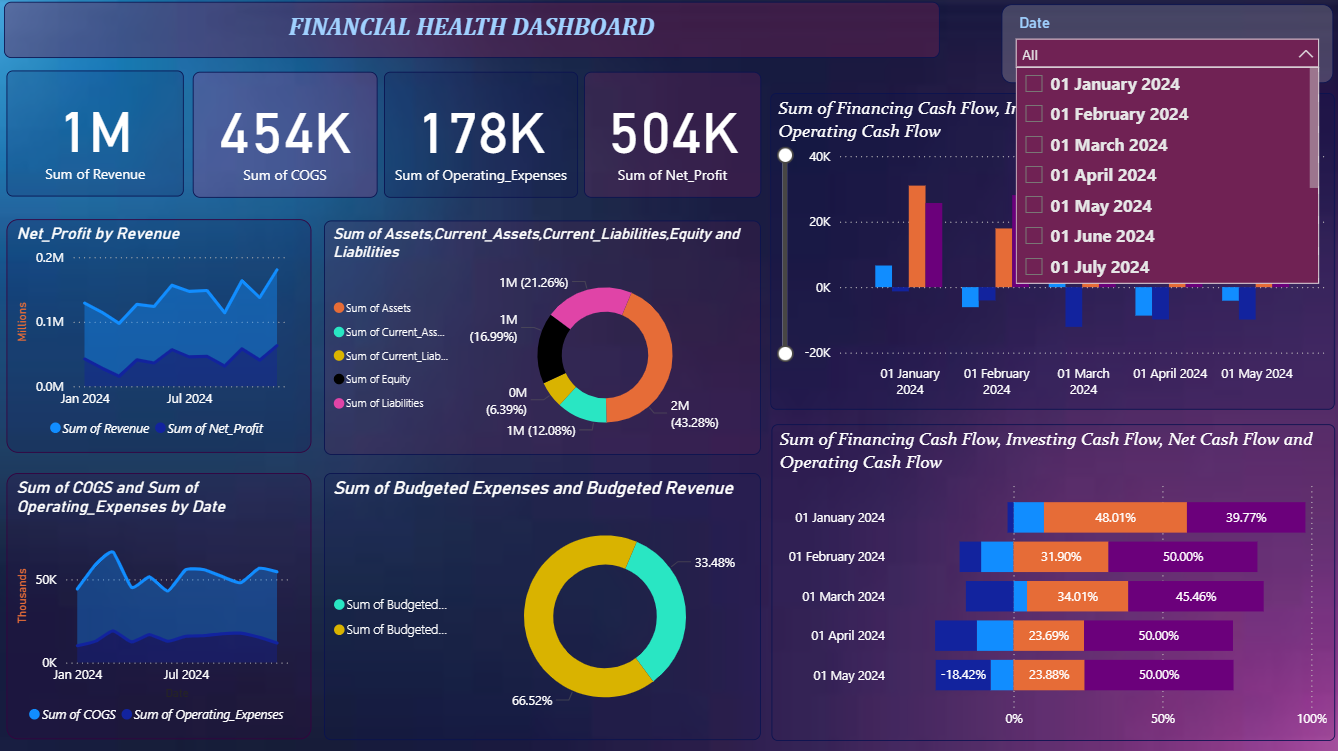

This screenshot's page, from the dashboard's own definition file:
{"tool":"powerbi","page":{"name":"Page 1","canvas":[1280,720],"ordinal":0},"visuals":[{"type":"textbox","box":[5,3.8,891.2,53.8],"z":0},{"type":"stackedAreaChart","title":"Net_Profit by Revenue","fields":{"Y":["Sum(Income_Statement.Revenue)","Sum(Income_Statement.Net_Profit)"],"Category":["Income_Statement.Date"]},"box":[7.5,211.2,290,222.5],"z":1000},{"type":"card","fields":{"Values":["Sum(Income_Statement.Revenue)"]},"box":[7.1,69,169,120.2],"z":2000},{"type":"stackedAreaChart","fields":{"Category":["Income_Statement.Date"],"Y":["Sum(Income_Statement.COGS)","Sum(Income_Statement.Operating_Expenses)"]},"box":[7.5,452.5,290,253.8],"z":3000},{"type":"card","fields":{"Values":["Sum(Income_Statement.COGS)"]},"box":[184.5,70.2,176.2,120.2],"z":4000},{"type":"card","fields":{"Values":["Sum(Income_Statement.Operating_Expenses)"]},"box":[366.7,70.2,184.5,120.2],"z":5000},{"type":"slicer","fields":{"Values":["Budget.Date Hierarchy.Date"]},"box":[955,6.2,316.2,75],"z":6000},{"type":"card","fields":{"Values":["Sum(Income_Statement.Net_Profit)"]},"box":[557.1,70.2,169,120.2],"z":7000},{"type":"donutChart","title":"Sum of Assets,Current_Assets,Current_Liabilities,Equity and Liabilities","fields":{"Y":["Sum(Balance_Sheet.Assets)","Sum(Balance_Sheet.Current_Assets)","Sum(Balance_Sheet.Current_Liabilities)","Sum(Balance_Sheet.Equity)","Sum(Balance_Sheet.Liabilities)"]},"box":[310,211.4,415.7,222.9],"z":8000},{"type":"donutChart","title":"Sum of Budgeted Expenses and Budgeted Revenue ","fields":{"Y":["Sum(Budget.Budgeted_Expenses)","Sum(Budget.Budgeted_Revenue)"]},"box":[310,452.9,415.7,254.3],"z":9000},{"type":"clusteredColumnChart","title":"Sum of Financing Cash Flow, Investing Cash Flow, Net Cash Flow and Operating Cash Flow","fields":{"Category":["Cash_Flow.Date"],"Y":["Sum(Cash_Flow.Financing_Cash_Flow)","Sum(Cash_Flow.Investing_Cash_Flow)","Sum(Cash_Flow.Net_Cash_Flow)","Sum(Cash_Flow.Operating_Cash_Flow)"]},"box":[735,90,537.5,301.2],"z":10000},{"type":"hundredPercentStackedBarChart","title":"Sum of Financing Cash Flow, Investing Cash Flow, Net Cash Flow and Operating Cash Flow","fields":{"Category":["Cash_Flow.Date"],"Y":["Sum(Cash_Flow.Financing_Cash_Flow)","Sum(Cash_Flow.Investing_Cash_Flow)","Sum(Cash_Flow.Net_Cash_Flow)","Sum(Cash_Flow.Operating_Cash_Flow)"]},"box":[735.7,405.7,537.1,301.4],"z":11000}]}

Visuals, with their boxes in screenshot pixels (x1, y1, x2, y2), scaled from the page's 1280x720 canvas onto the 1338x751 screenshot:
textbox: bbox(5, 4, 937, 60)
"Net_Profit by Revenue" stackedAreaChart: bbox(8, 220, 311, 452)
card - Sum(Income_Statement.Revenue): bbox(7, 72, 184, 197)
stackedAreaChart - Income_Statement.Date x Sum(Income_Statement.COGS): bbox(8, 472, 311, 737)
card - Sum(Income_Statement.COGS): bbox(193, 73, 377, 199)
card - Sum(Income_Statement.Operating_Expenses): bbox(383, 73, 576, 199)
slicer - Budget.Date Hierarchy.Date: bbox(998, 6, 1329, 85)
card - Sum(Income_Statement.Net_Profit): bbox(582, 73, 759, 199)
"Sum of Assets,Current_Assets,Current_Liabilities,Equity and Liabilities" donutChart: bbox(324, 221, 759, 453)
"Sum of Budgeted Expenses and Budgeted Revenue " donutChart: bbox(324, 472, 759, 738)
"Sum of Financing Cash Flow, Investing Cash Flow, Net Cash Flow and Operating Cash Flow" clusteredColumnChart: bbox(768, 94, 1330, 408)
"Sum of Financing Cash Flow, Investing Cash Flow, Net Cash Flow and Operating Cash Flow" hundredPercentStackedBarChart: bbox(769, 423, 1330, 738)
